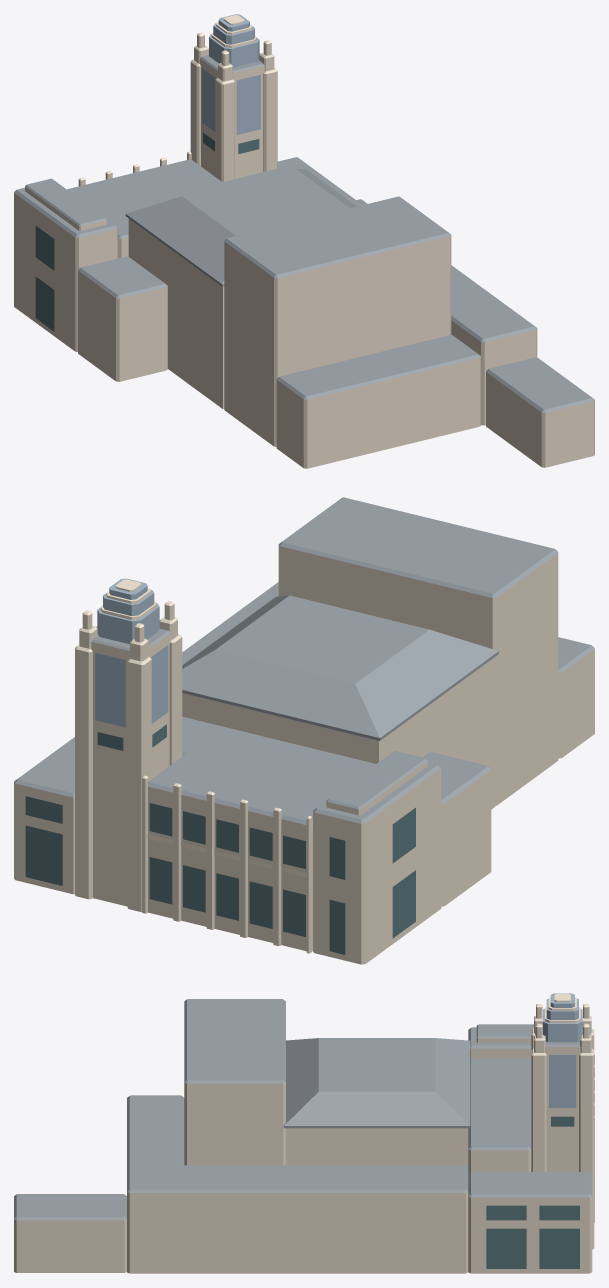
The model's file is lv-smith-center.glb.
3 views of the same model, one above another, from view 1: azimuth 30°, elevation 25°; view 2: azimuth 150°, elevation 25°; view 3: azimuth 270°, elevation 25° (orthographic). The views are drawn at different scales.
Parts seen in each view (by area): view 1: The Smith Center for the Performing Arts; view 2: The Smith Center for the Performing Arts; view 3: The Smith Center for the Performing Arts.
Part boxes in pixels (x1,y1,x2,y2): The Smith Center for the Performing Arts: [14, 14, 594, 468]; The Smith Center for the Performing Arts: [14, 497, 594, 964]; The Smith Center for the Performing Arts: [14, 993, 594, 1273].
Bounding box in the file's own units: 62.9 × 52 × 115.
